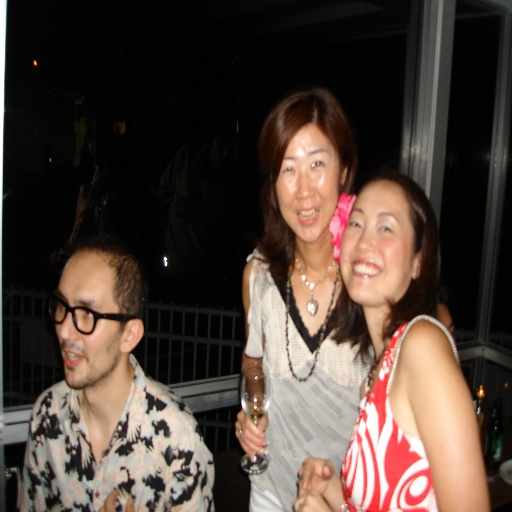hand: (234, 407, 267, 460), (292, 486, 333, 511), (98, 488, 134, 511)
